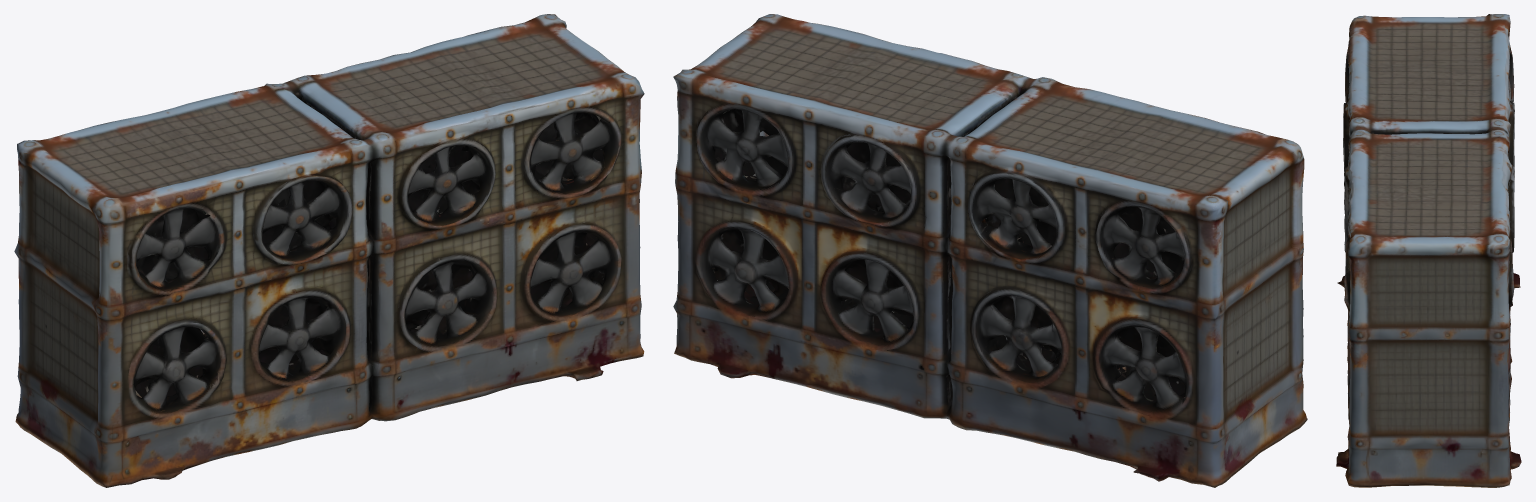
File: Fans_1120163944_texture.fbx
3 renders of one model, left to right at view 1: azimuth 30°, elevation 25°; view 2: azimuth 150°, elevation 25°; view 3: azimuth 270°, elevation 25°, orthographic. The views are drawn at different scales.
Parts seen in each view (by area): view 1: Mesh1.0; view 2: Mesh1.0; view 3: Mesh1.0.
Part boxes in pixels (x1,y1,x2,y2): Mesh1.0: [14, 14, 644, 487]; Mesh1.0: [673, 14, 1307, 487]; Mesh1.0: [1336, 14, 1521, 487].
Size of the model in its own units: 191 by 96.61 by 64.34.
1 material, 1 textured.
